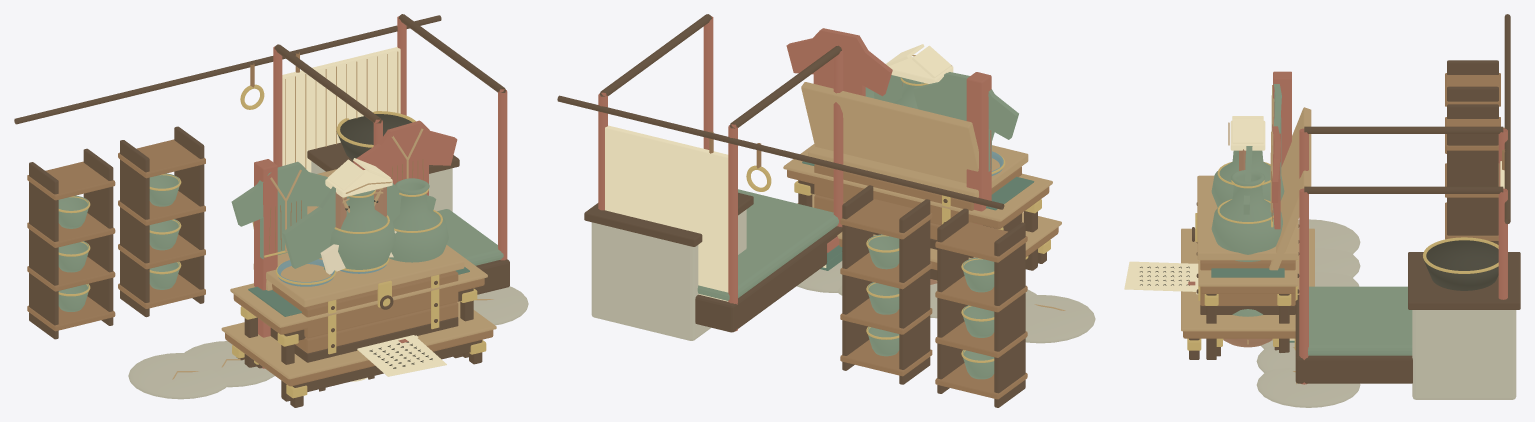
The model's file is tang-game-props.glb.
3 renders of one model, left to right at view 1: azimuth 30°, elevation 25°; view 2: azimuth 150°, elevation 25°; view 3: azimuth 270°, elevation 25°, orthographic. The views are drawn at different scales.
Visible parts, largest first — view 1: kitchen_furniture__darkwood, kitchen_furniture__wood, bedroom_furniture__paper, chest_closed__wood, pot_found__stone, chest_closed__woodlight, kitchen_furniture__sage, bedroom_furniture__red, clothes_hanging__red, clothes_hanging__sage, vessels_released__sage, vessels_nested__sage (+21 smaller); view 2: kitchen_furniture__darkwood, bedroom_furniture__paper, kitchen_furniture__wood, kitchen_furniture__stone, chest_open__woodlight, bedroom_furniture__darkwood, bedroom_furniture__sage, bedroom_furniture__red, kitchen_furniture__sage, pot_found__stone, clothes_hanging__red, chest_closed__woodlight (+10 smaller); view 3: kitchen_furniture__darkwood, kitchen_furniture__stone, bedroom_furniture__sage, bedroom_furniture__darkwood, pot_found__stone, chest_closed__woodlight, vessels_released__sage, bedroom_furniture__red, kitchen_furniture__ink, chest_closed__wood, chest_open__woodlight, kitchen_furniture__wood (+17 smaller).
Boxes of the visible parts, <box> form: kitchen_furniture__darkwood: <box>14,15,459,339</box>; kitchen_furniture__wood: <box>27,52,299,331</box>; bedroom_furniture__paper: <box>282,47,400,172</box>; chest_closed__wood: <box>225,271,493,386</box>; pot_found__stone: <box>128,286,528,399</box>; chest_closed__woodlight: <box>221,247,496,379</box>; kitchen_furniture__sage: <box>58,173,179,311</box>; bedroom_furniture__red: <box>273,16,507,260</box>; clothes_hanging__red: <box>353,120,457,195</box>; clothes_hanging__sage: <box>231,161,330,258</box>; vessels_released__sage: <box>389,178,448,262</box>; vessels_nested__sage: <box>329,189,395,269</box>; kitchen_furniture__darkwood: <box>557,95,1025,407</box>; bedroom_furniture__paper: <box>605,125,728,301</box>; kitchen_furniture__wood: <box>709,131,1027,399</box>; kitchen_furniture__stone: <box>591,209,746,340</box>; chest_open__woodlight: <box>797,82,1054,259</box>; bedroom_furniture__darkwood: <box>600,14,842,332</box>; bedroom_furniture__sage: <box>697,189,838,300</box>; bedroom_furniture__red: <box>598,16,843,331</box>; kitchen_furniture__sage: <box>867,234,994,379</box>; pot_found__stone: <box>796,261,1095,343</box>; clothes_hanging__red: <box>786,28,892,96</box>; chest_closed__woodlight: <box>808,145,1061,262</box>; kitchen_furniture__darkwood: <box>1408,14,1520,309</box>; kitchen_furniture__stone: <box>1412,310,1516,399</box>; bedroom_furniture__sage: <box>1308,286,1412,355</box>; bedroom_furniture__darkwood: <box>1295,126,1503,383</box>; pot_found__stone: <box>1256,219,1360,407</box>; chest_closed__woodlight: <box>1181,175,1314,331</box>; vessels_released__sage: <box>1211,170,1282,261</box>; bedroom_furniture__red: <box>1299,128,1507,384</box>; kitchen_furniture__ink: <box>1423,240,1498,290</box>; chest_closed__wood: <box>1183,260,1295,338</box>; chest_open__woodlight: <box>1269,107,1311,270</box>; kitchen_furniture__wood: <box>1445,73,1504,240</box>.
Bounding box in the file's own units: 5.6 × 2.9 × 4.58.
